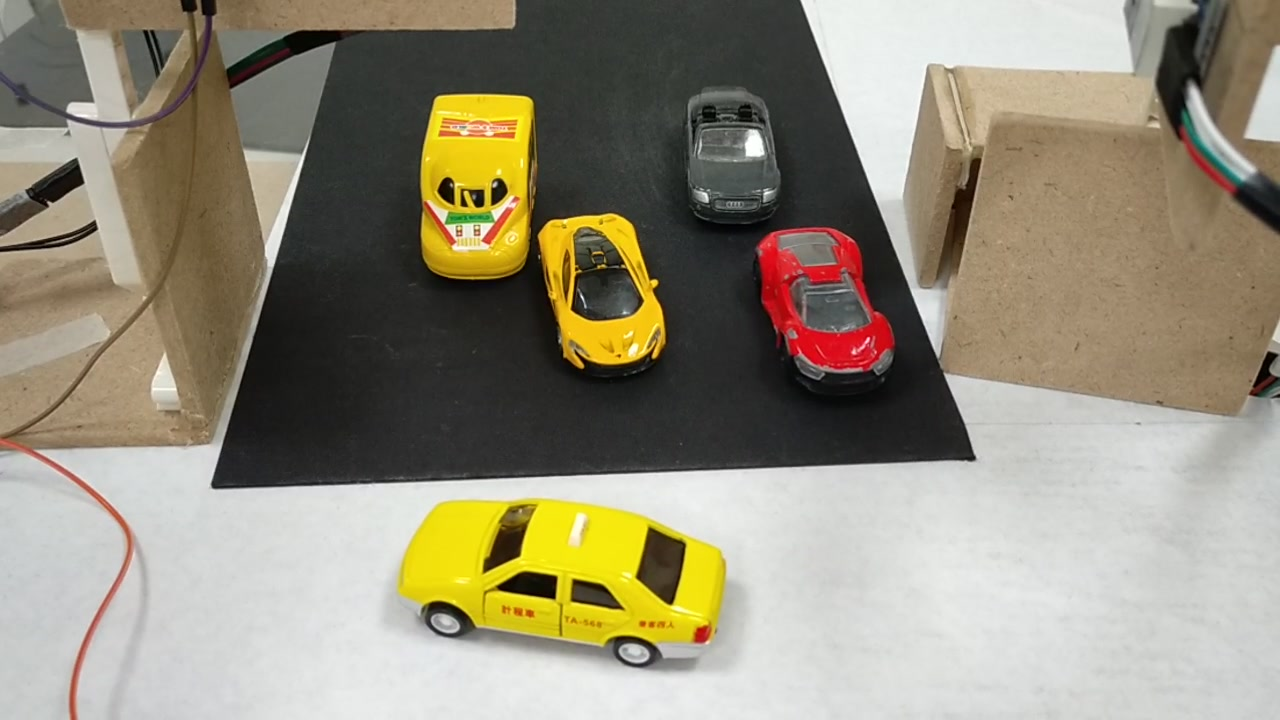car: (403, 499, 724, 672), (757, 225, 898, 402), (537, 216, 666, 380), (688, 92, 781, 218)
